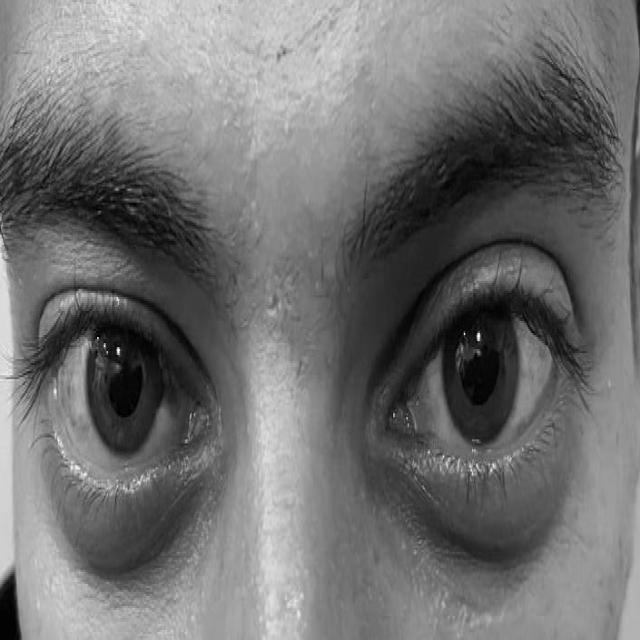real: (16, 152, 614, 584)
